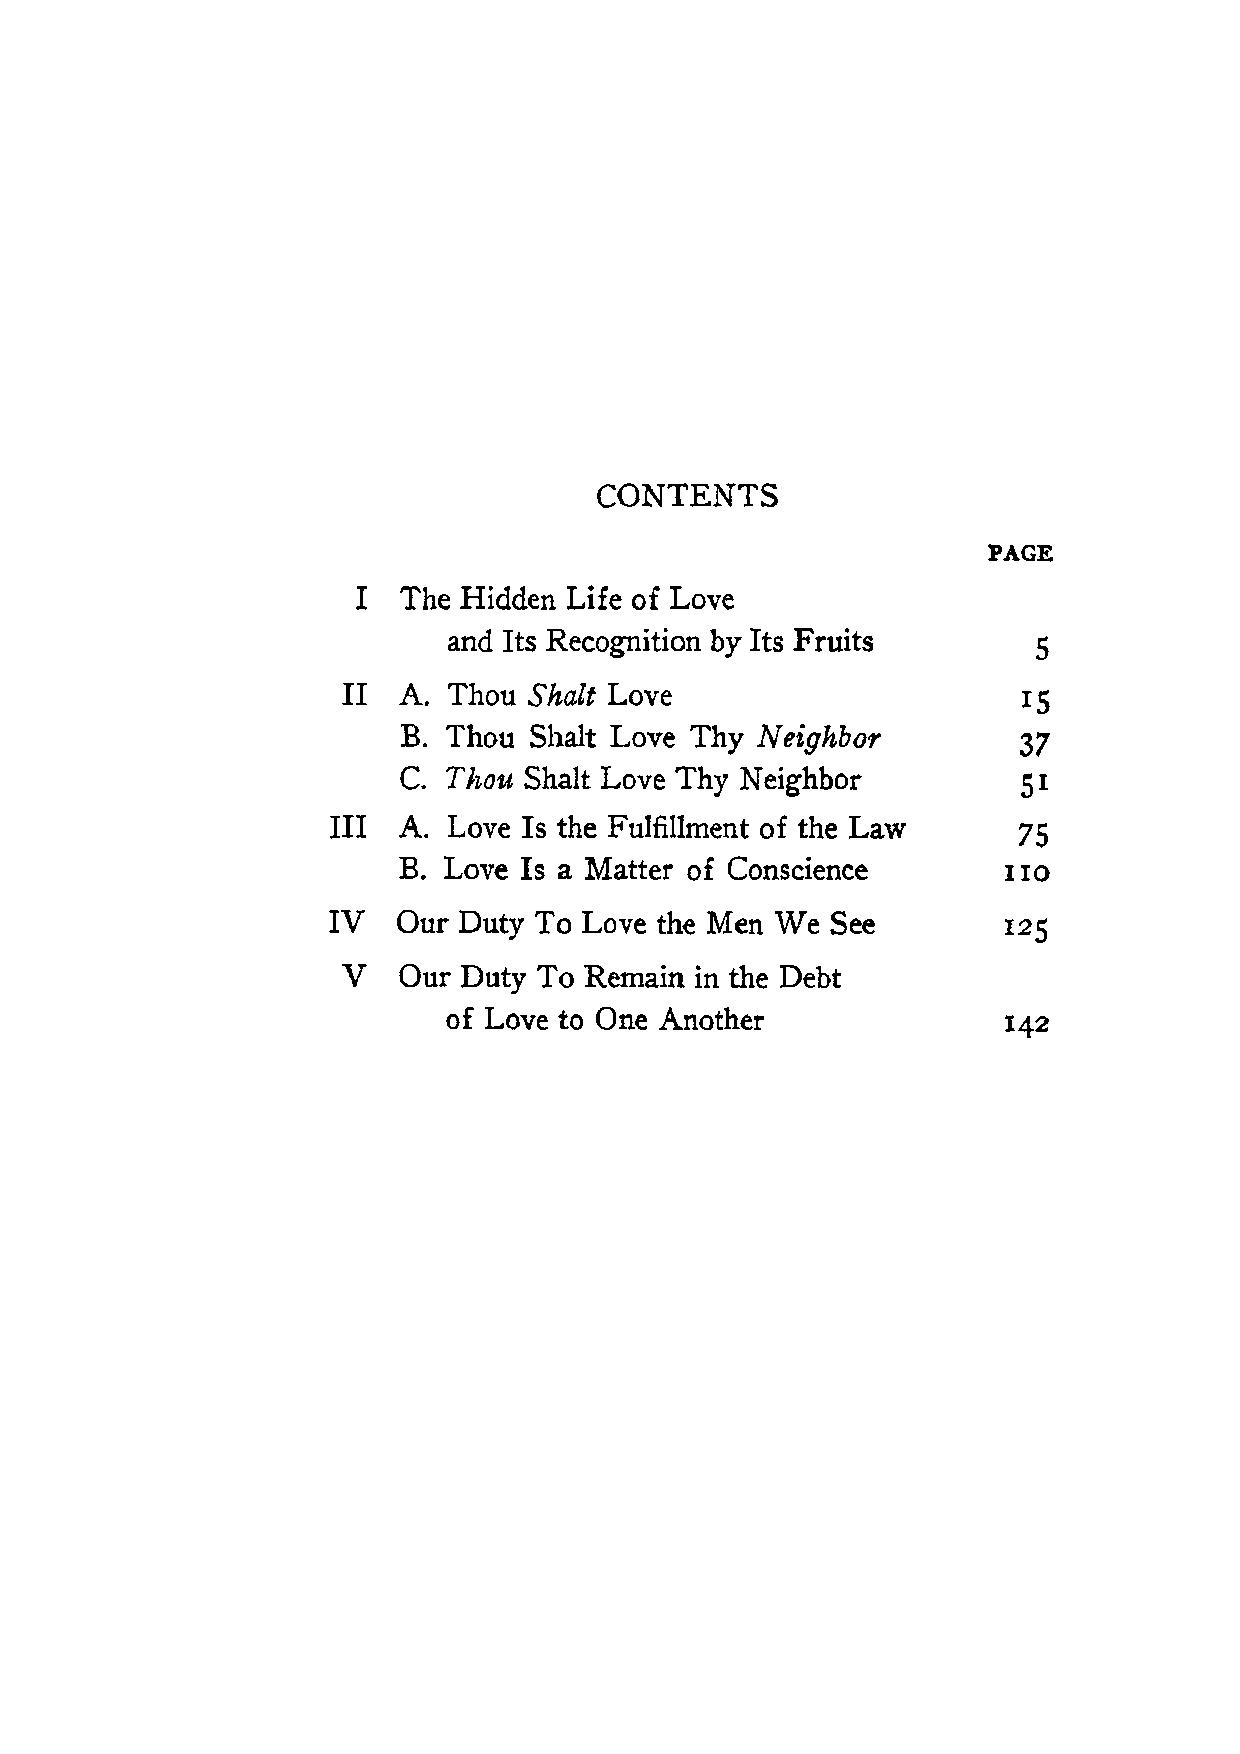TOC_chapter: (353, 578, 884, 658), (334, 960, 839, 1037), (325, 898, 884, 937), (322, 811, 909, 844), (399, 721, 882, 754), (396, 852, 874, 886), (397, 761, 866, 793), (337, 674, 679, 711)
TOC_pagenumber: (1002, 915, 1049, 946), (1001, 1012, 1051, 1039), (1004, 859, 1051, 884), (1015, 821, 1056, 849), (1019, 770, 1053, 798), (1021, 682, 1049, 713), (1020, 729, 1047, 756), (1028, 632, 1052, 662)
chapter: (586, 476, 788, 513)
